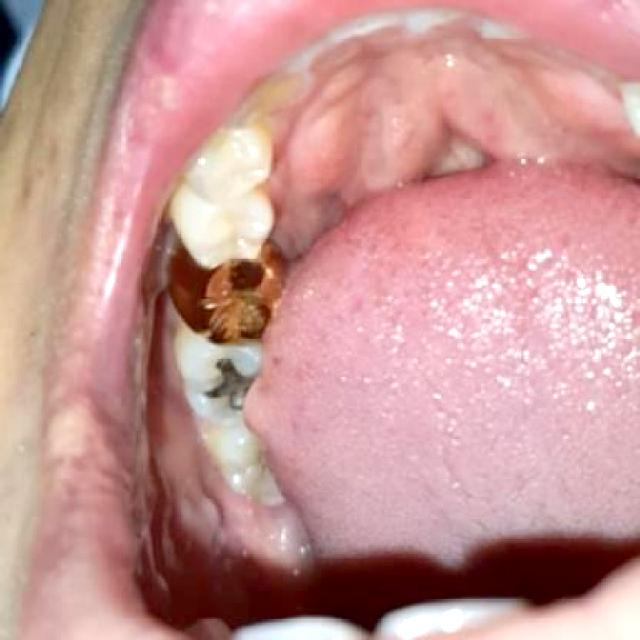Plaque: (245, 486, 299, 533), (241, 437, 283, 484)
